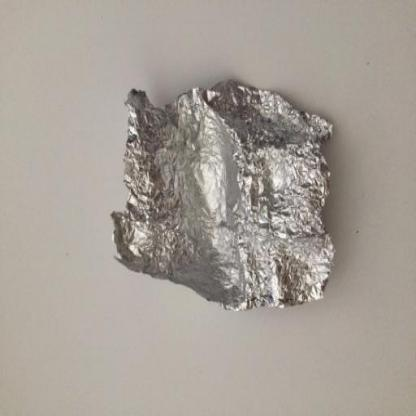trash: (114, 78, 334, 308)
